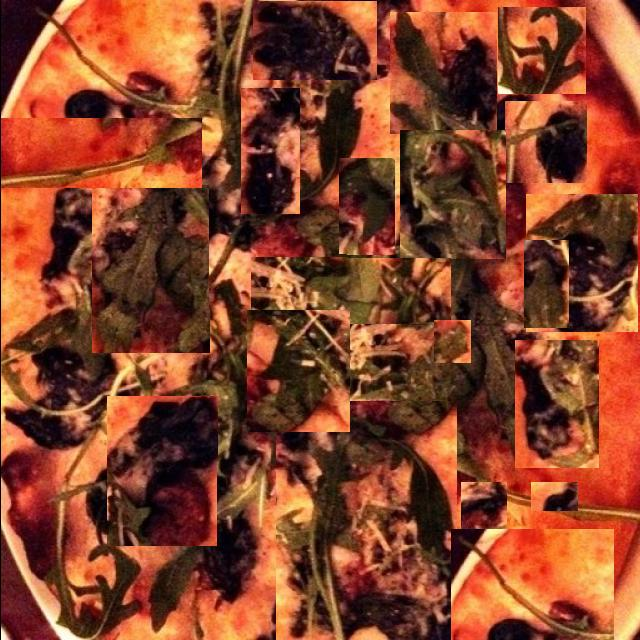basil: (275, 401, 456, 640), (91, 185, 208, 353), (450, 529, 613, 640), (106, 396, 216, 546), (525, 194, 637, 332), (0, 118, 201, 188), (399, 130, 505, 259), (250, 258, 450, 324), (389, 12, 496, 134), (246, 310, 349, 432), (168, 308, 246, 460), (514, 340, 598, 468), (252, 2, 376, 82), (203, 228, 346, 296), (497, 7, 585, 94), (240, 88, 299, 214), (504, 101, 586, 183), (338, 158, 394, 255), (523, 240, 568, 328), (460, 482, 506, 566), (433, 320, 470, 363), (530, 482, 577, 511)
olive: (530, 520, 580, 547)
pizza: (0, 0, 640, 640)
